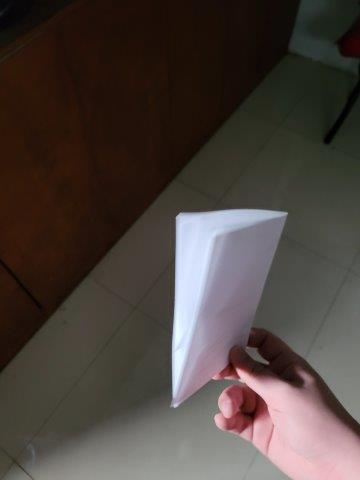kertas: (173, 213, 286, 407)
